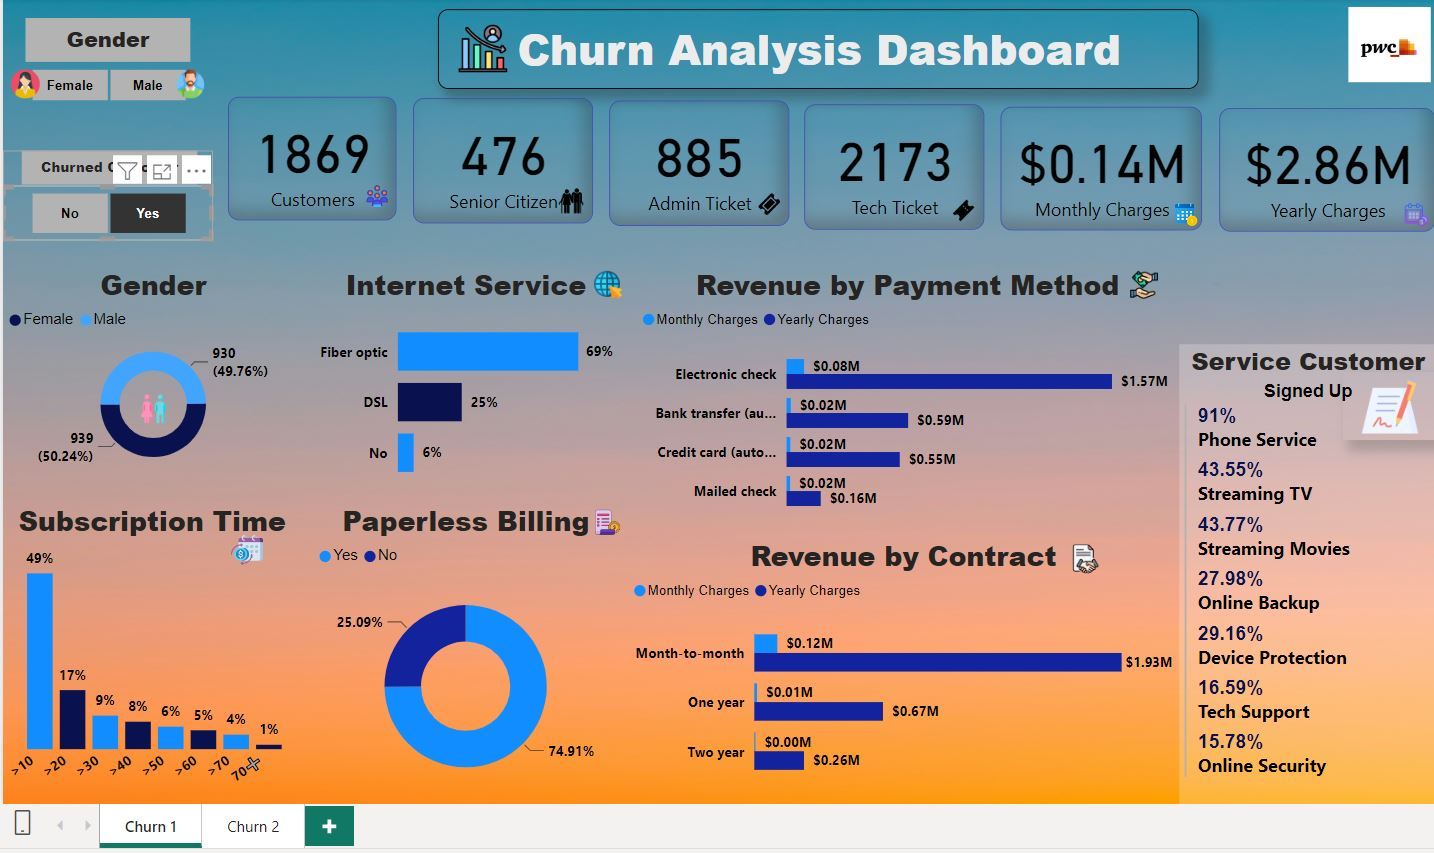

The page's visual inventory and layout, read from the dashboard file:
{"tool":"powerbi","page":{"name":"Churn 1","canvas":[1280,720],"ordinal":0},"visuals":[{"type":"textbox","box":[388.4,10.5,679.1,70.9],"z":0},{"type":"group","id":"g1","title":"Group 1","box":[0,17.4,187.2,81],"z":0,"group":"g3"},{"type":"slicer","title":"Gender","fields":{"Values":["01 Churn-Dataset.gender"]},"box":[0,56.7,187.2,41.7],"z":0,"group":"g1"},{"type":"card","fields":{"Values":["All Measurement.Total employee"]},"box":[200.9,87.7,150,110.5],"z":0,"group":"g4"},{"type":"slicer","title":"Gender","fields":{"Values":["01 Churn-Dataset.Churn"]},"box":[0,167.1,187.2,49.1],"z":0,"group":"g2"},{"type":"image","box":[1196.5,0,83.7,82.6],"z":1000},{"type":"textbox","box":[19.7,17.4,146.9,39.3],"z":1000,"group":"g1"},{"type":"image","box":[147.7,59.1,39.5,35],"z":1000,"group":"g3"},{"type":"card","fields":{"Values":["Sum(01 Churn-Dataset.MonthlyCharges)"]},"box":[891.2,96.5,180,110.5],"z":1000,"group":"g4"},{"type":"textbox","box":[16.3,136,157,30.2],"z":1000,"group":"g2"},{"type":"image","box":[397.7,17.4,61.6,54.7],"z":2000},{"type":"image","box":[0,59.1,39.5,35],"z":2000,"group":"g3"},{"type":"card","fields":{"Values":["Sum(01 Churn-Dataset.TotalCharges)"]},"box":[1085.9,97.8,193,110.5],"z":2000,"group":"g4"},{"type":"card","fields":{"Values":["All Measurement.SeniorCitizenCount"]},"box":[365.6,89,160.5,111.6],"z":3000,"group":"g4"},{"type":"clusteredBarChart","title":"Revenue by Contract","fields":{"Category":["01 Churn-Dataset.Contract"],"Y":["Sum(01 Churn-Dataset.MonthlyCharges)","Sum(01 Churn-Dataset.TotalCharges)"]},"box":[558.1,480.3,491.9,232.6],"z":3000,"group":"g7"},{"type":"card","fields":{"Values":["All Measurement.Admin Ticket"]},"box":[540.8,91.5,160.5,111.6],"z":4000,"group":"g4"},{"type":"clusteredBarChart","title":"Revenue by Payment Method","fields":{"Category":["01 Churn-Dataset.PaymentMethod"],"Y":["Sum(01 Churn-Dataset.MonthlyCharges)","Sum(01 Churn-Dataset.TotalCharges)"]},"box":[566.2,238.4,483.7,234.9],"z":4000,"group":"g7"},{"type":"card","fields":{"Values":["All Measurement.Tech Ticket"]},"box":[716,94,160.5,111.6],"z":5000,"group":"g4"},{"type":"multiRowCard","title":"Service Customer","fields":{"Values":["All Measurement.% Phone Service","All Measurement.% Streaming TV","All Measurement.% Streaming Movies","All Measurement.% Online Backup","All Measurement.Device Protection","All Measurement.% Tech Support","All Measurement.% Online Security"]},"box":[1050,308.2,230.2,411.6],"z":5000,"group":"g7"},{"type":"image","box":[839.3,174.4,37.2,29.1],"z":6000,"group":"g4"},{"type":"clusteredColumnChart","title":"Subscription Time","fields":{"Y":["All Measurement.Total employee"],"Category":["01 Churn-Dataset.Tenure Status"]},"box":[0,448.9,266.3,270.9],"z":6000,"group":"g6"},{"type":"image","box":[667.2,168.6,33.7,29.1],"z":7000,"group":"g4"},{"type":"clusteredBarChart","title":"Internet Service","fields":{"Y":["All Measurement.Total employee"],"Category":["01 Churn-Dataset.InternetService"]},"box":[276.7,238.4,273.3,209.3],"z":7000,"group":"g6"},{"type":"image","box":[489.3,165.1,37.2,32.6],"z":8000,"group":"g4"},{"type":"donutChart","title":"Paperless Billing","fields":{"Category":["01 Churn-Dataset.PaperlessBilling"],"Y":["Divide(All Measurement.Total employee, ScopedEval(All Measurement.Total employee, []))"]},"box":[277,449,273,271],"z":8000,"group":"g6"},{"type":"image","box":[1039.3,175.6,32.6,32.6],"z":9000,"group":"g4"},{"type":"donutChart","title":"Gender","fields":{"Category":["01 Churn-Dataset.gender"],"Y":["All Measurement.Count churns"]},"box":[0,238.4,268.6,189.5],"z":9000,"group":"g6"},{"type":"group","id":"g2","title":"Group 2","box":[0,136,187.2,80.2],"z":10000,"group":"g5"},{"type":"image","box":[1245.1,175.6,34.9,34.9],"z":10000,"group":"g4"},{"type":"group","id":"g3","title":"Group 3","box":[0,17.4,187.2,81],"z":11000,"group":"g5"},{"type":"image","box":[318.3,160.5,32.6,32.6],"z":11000,"group":"g4"},{"type":"image","box":[1196.5,333.7,83.7,60.5],"z":12000},{"type":"image","box":[107,348.8,55,35],"z":13000},{"type":"image","box":[187.2,473.3,60.5,40],"z":14000},{"type":"image","box":[510.5,238.4,60.5,34.9],"z":15000},{"type":"image","box":[510.5,448.8,60.5,39.5],"z":16000},{"type":"image","box":[936,483.7,60.5,35],"z":17000},{"type":"image","box":[989.5,238.4,60.5,34.9],"z":18000},{"type":"group","id":"g4","title":"Group 3","box":[200.9,87.7,1079.1,122.8],"z":19000},{"type":"group","id":"g5","title":"Group 4","box":[0,17.4,187.2,198.8],"z":19001},{"type":"group","id":"g6","title":"Group 5","box":[0,238.4,550,481.6],"z":19002},{"type":"group","id":"g7","title":"Group 6","box":[558.1,238.4,722.1,481.4],"z":19003}]}

Visuals, with their boxes on the page's 1280x720 design canvas (x1, y1, x2, y2). These are canvas units, not pixel positions in the 1434x853 screenshot, which may show the page scaled, cropped or inside an application window:
textbox: pyautogui.locateOnScreen(388, 10, 1068, 81)
"Group 1" group: pyautogui.locateOnScreen(0, 17, 187, 98)
"Gender" slicer: pyautogui.locateOnScreen(0, 57, 187, 98)
card - All Measurement.Total employee: pyautogui.locateOnScreen(201, 88, 351, 198)
"Gender" slicer: pyautogui.locateOnScreen(0, 167, 187, 216)
image: pyautogui.locateOnScreen(1196, 0, 1280, 83)
textbox: pyautogui.locateOnScreen(20, 17, 167, 57)
image: pyautogui.locateOnScreen(148, 59, 187, 94)
card - Sum(01 Churn-Dataset.MonthlyCharges): pyautogui.locateOnScreen(891, 96, 1071, 207)
textbox: pyautogui.locateOnScreen(16, 136, 173, 166)
image: pyautogui.locateOnScreen(398, 17, 459, 72)
image: pyautogui.locateOnScreen(0, 59, 40, 94)
card - Sum(01 Churn-Dataset.TotalCharges): pyautogui.locateOnScreen(1086, 98, 1279, 208)
card - All Measurement.SeniorCitizenCount: pyautogui.locateOnScreen(366, 89, 526, 201)
"Revenue by Contract" clusteredBarChart: pyautogui.locateOnScreen(558, 480, 1050, 713)
card - All Measurement.Admin Ticket: pyautogui.locateOnScreen(541, 92, 701, 203)
"Revenue by Payment Method" clusteredBarChart: pyautogui.locateOnScreen(566, 238, 1050, 473)
card - All Measurement.Tech Ticket: pyautogui.locateOnScreen(716, 94, 876, 206)
"Service Customer" multiRowCard: pyautogui.locateOnScreen(1050, 308, 1280, 720)
image: pyautogui.locateOnScreen(839, 174, 876, 204)
"Subscription Time" clusteredColumnChart: pyautogui.locateOnScreen(0, 449, 266, 720)
image: pyautogui.locateOnScreen(667, 169, 701, 198)
"Internet Service" clusteredBarChart: pyautogui.locateOnScreen(277, 238, 550, 448)
image: pyautogui.locateOnScreen(489, 165, 526, 198)
"Paperless Billing" donutChart: pyautogui.locateOnScreen(277, 449, 550, 720)
image: pyautogui.locateOnScreen(1039, 176, 1072, 208)
"Gender" donutChart: pyautogui.locateOnScreen(0, 238, 269, 428)
"Group 2" group: pyautogui.locateOnScreen(0, 136, 187, 216)
image: pyautogui.locateOnScreen(1245, 176, 1280, 210)
"Group 3" group: pyautogui.locateOnScreen(0, 17, 187, 98)
image: pyautogui.locateOnScreen(318, 160, 351, 193)
image: pyautogui.locateOnScreen(1196, 334, 1280, 394)
image: pyautogui.locateOnScreen(107, 349, 162, 384)
image: pyautogui.locateOnScreen(187, 473, 248, 513)
image: pyautogui.locateOnScreen(510, 238, 571, 273)
image: pyautogui.locateOnScreen(510, 449, 571, 488)
image: pyautogui.locateOnScreen(936, 484, 996, 519)
image: pyautogui.locateOnScreen(990, 238, 1050, 273)
"Group 3" group: pyautogui.locateOnScreen(201, 88, 1280, 210)
"Group 4" group: pyautogui.locateOnScreen(0, 17, 187, 216)
"Group 5" group: pyautogui.locateOnScreen(0, 238, 550, 720)
"Group 6" group: pyautogui.locateOnScreen(558, 238, 1280, 720)
